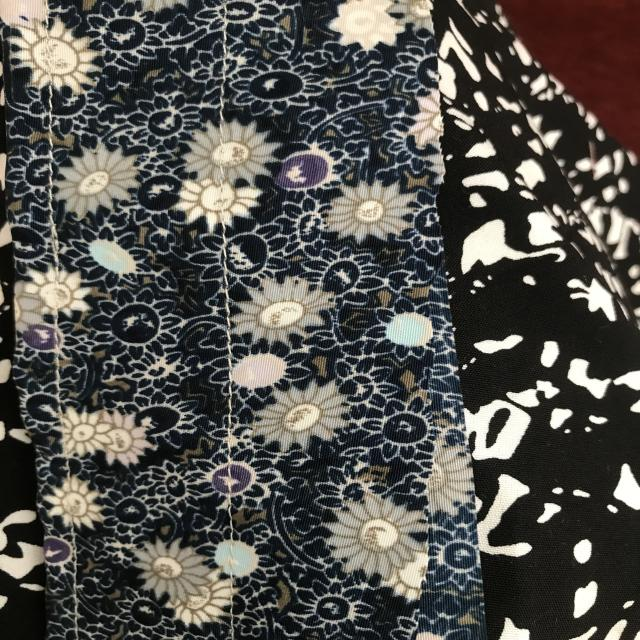good: (218, 390, 250, 526), (206, 33, 242, 110), (217, 254, 237, 343)
